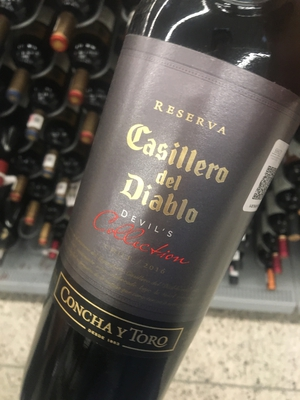casillero del diablo devils collection rojo: (54, 22, 294, 400)
